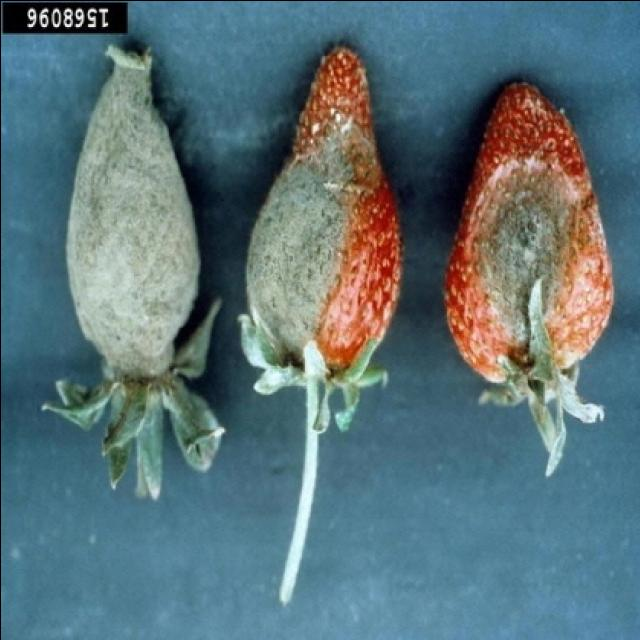Gray Mold: (39, 43, 224, 498), (441, 80, 614, 476), (237, 42, 402, 430)
